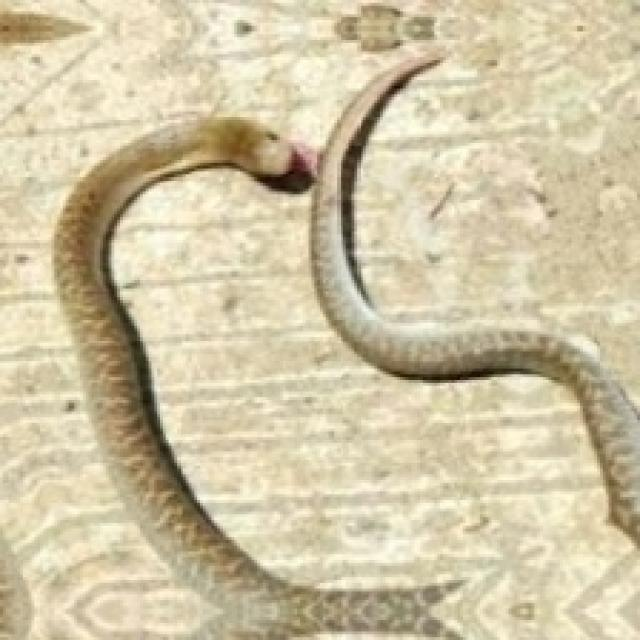philippine cobra: (54, 117, 457, 637), (311, 49, 637, 543)
